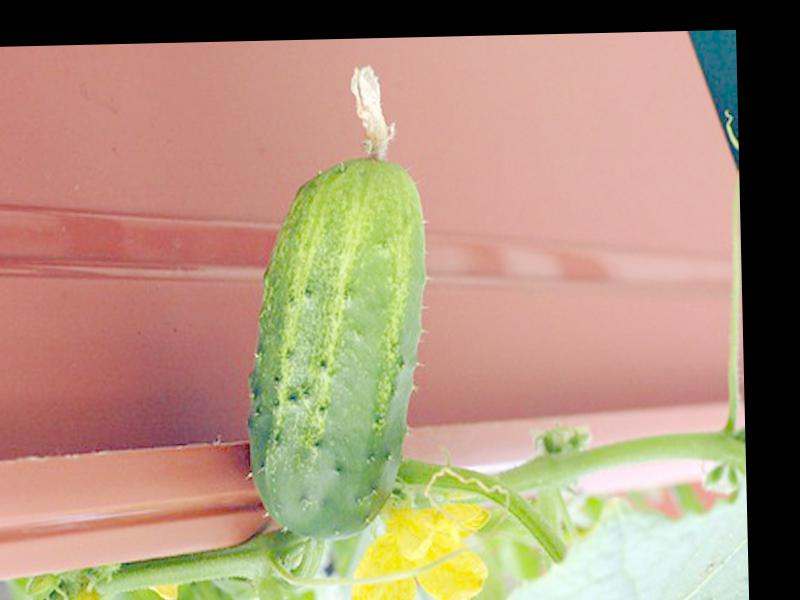Cucumber: (241, 61, 433, 543)
